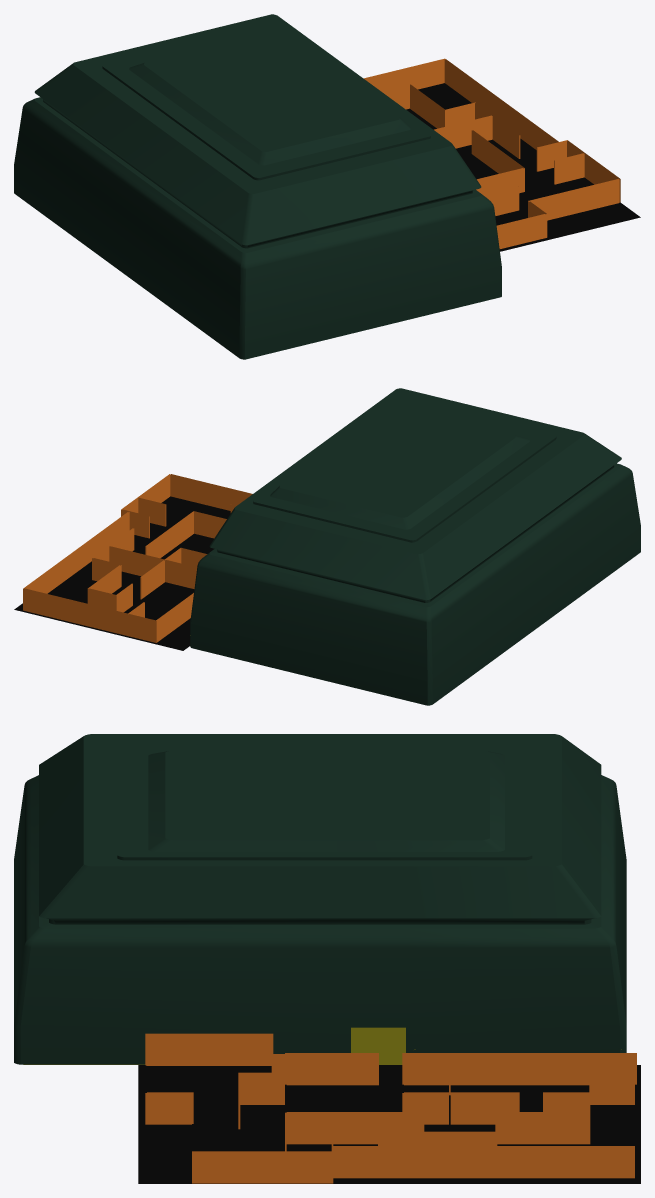
Rendered from L3_Reactor_Level.fbx.
3 renders of one model, top to bottom at view 1: azimuth 30°, elevation 25°; view 2: azimuth 150°, elevation 25°; view 3: azimuth 270°, elevation 25°, orthographic. The views are drawn at different scales.
Visible parts, largest first — view 1: Reactor_Room, Walls, Ground; view 2: Reactor_Room, Walls, Ground; view 3: Reactor_Room, Walls, Ground, Reactor_Floor.
Part boxes in pixels (x1,y1,x2,y2): Reactor_Room: (14, 14, 501, 359); Walls: (363, 58, 620, 248); Ground: (406, 83, 640, 251); Reactor_Room: (190, 388, 640, 705); Walls: (23, 474, 252, 642); Ground: (14, 496, 230, 650); Reactor_Room: (14, 734, 626, 1064); Walls: (145, 1033, 636, 1183); Ground: (138, 1065, 640, 1183); Reactor_Floor: (23, 1027, 621, 1064).
Bounding box in the file's own units: 5881 × 1851 × 5389.
